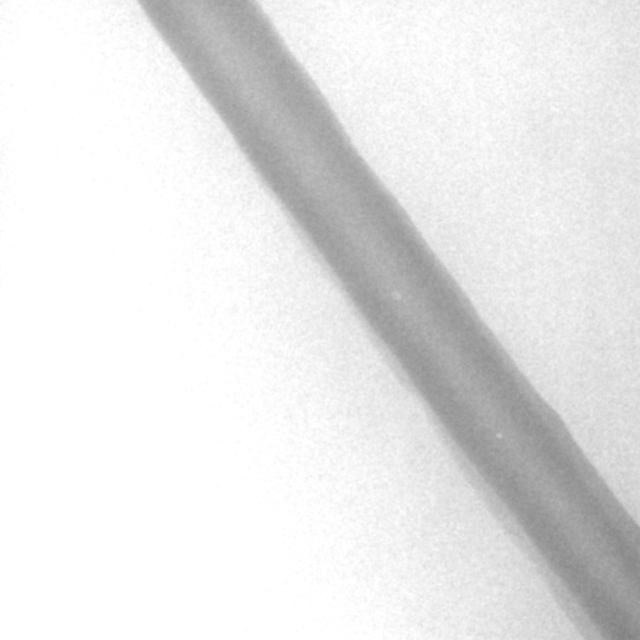air-hole: (393, 290, 403, 303), (496, 431, 505, 441)
